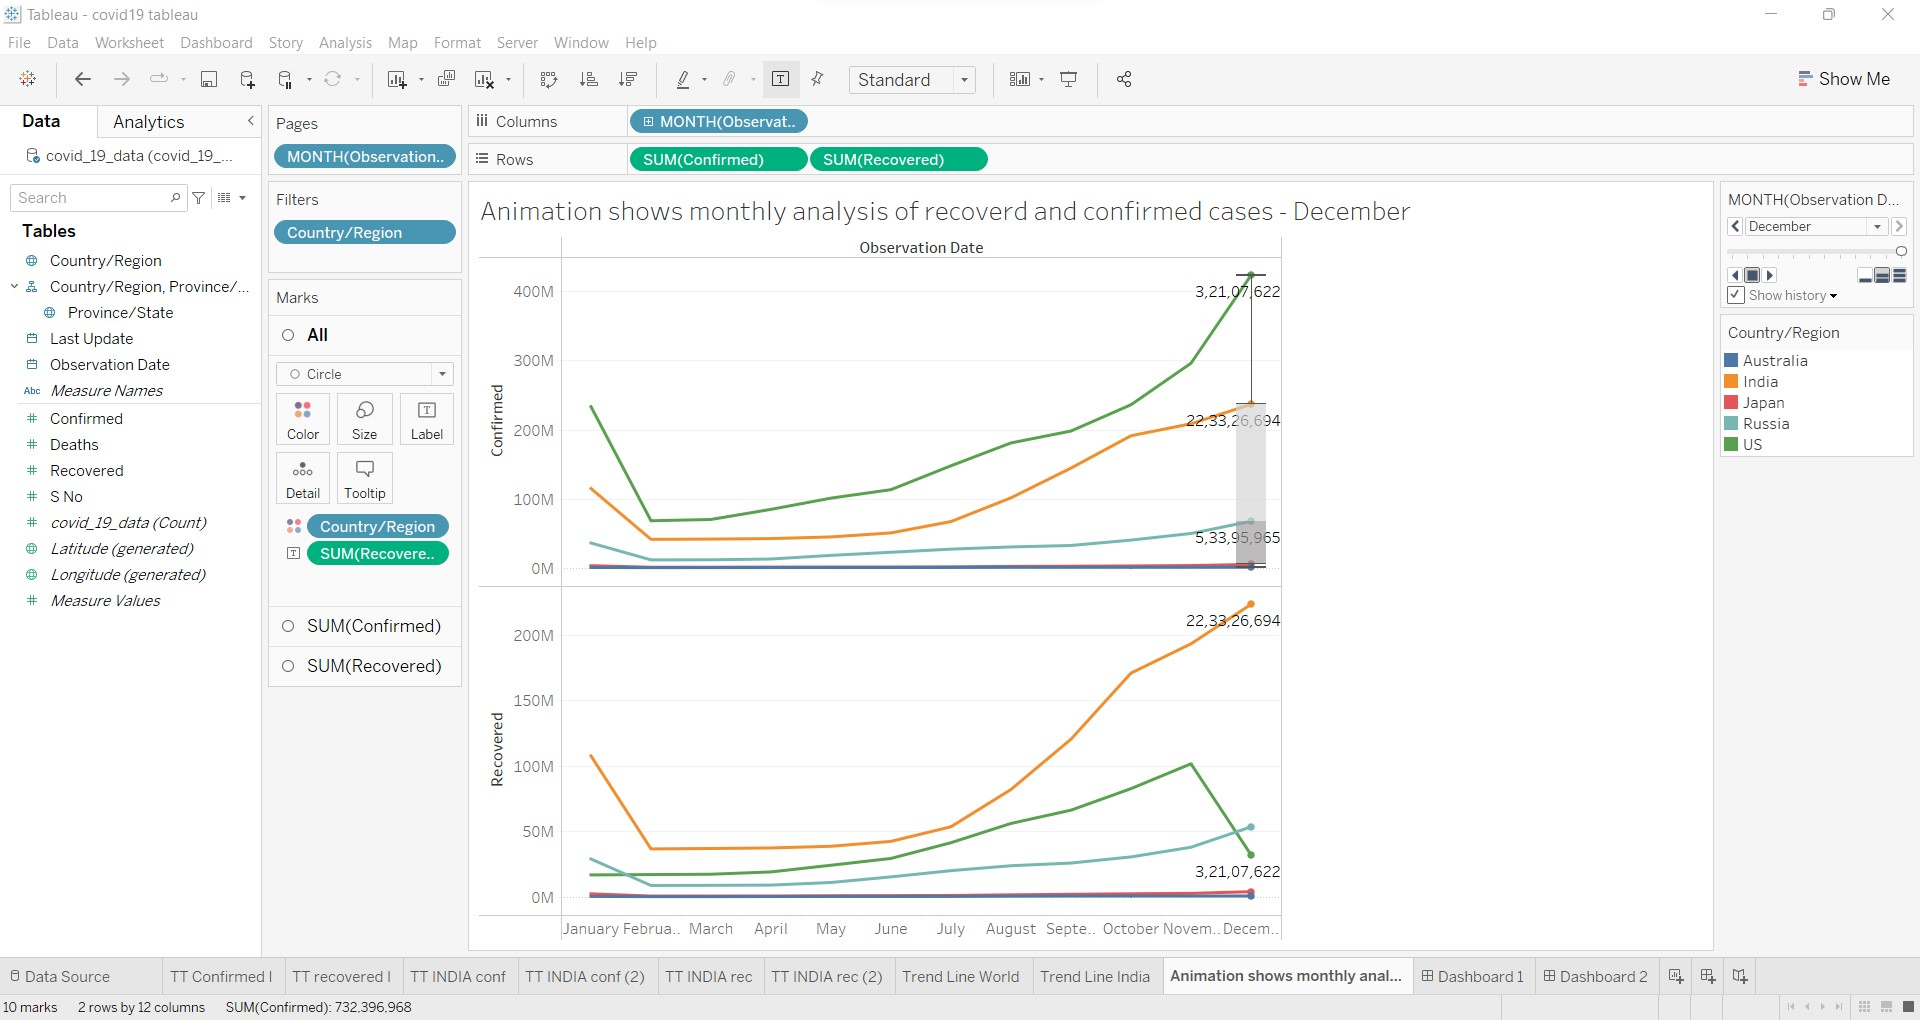

Layout of this report page (visuals, bound fields, positions):
{"tool":"tableau","page":{"name":"Dashboard 2","canvas":[1700,800],"ordinal":1},"visuals":[{"type":"worksheet","title":"Trend Line World","mark":"Automatic","rows":["Confirmed"],"cols":["Last Update","Last Update","Last Update"],"box":[8,8,501,784]},{"type":"worksheet","title":"Trend Line India","mark":"Automatic","rows":["Confirmed"],"cols":["Last Update","Last Update","Last Update"],"box":[509,8,520,784]},{"type":"worksheet","title":"Animation shows monthly analysis of recoverd and confirmed cases","mark":"Circle","rows":["Confirmed","Recovered"],"cols":["ObservationDate"],"box":[1029,8,503,784]},{"type":"legend","title":"Animation shows monthly analysis of recoverd and confirmed cases","param":"[federated.0flwlni0s3zrc6109q3ht1fvaa6c].[none:Country/Region:nk]","box":[1532,8,160,135]},{"type":"currpage","title":"Animation shows monthly analysis of recoverd and confirmed cases","box":[1532,143,160,119]}]}

Visuals, with their boxes on the page's 1700x800 design canvas (x1, y1, x2, y2). These are canvas units, not pixel positions in the 1920x1020 screenshot, which may show the page scaled, cropped or inside an application window:
"Trend Line World" worksheet: <box>8,8,509,792</box>
"Trend Line India" worksheet: <box>509,8,1029,792</box>
"Animation shows monthly analysis of recoverd and confirmed cases" worksheet (Circle marks): <box>1029,8,1532,792</box>
"Animation shows monthly analysis of recoverd and confirmed cases" legend: <box>1532,8,1692,143</box>
"Animation shows monthly analysis of recoverd and confirmed cases" currpage: <box>1532,143,1692,262</box>
